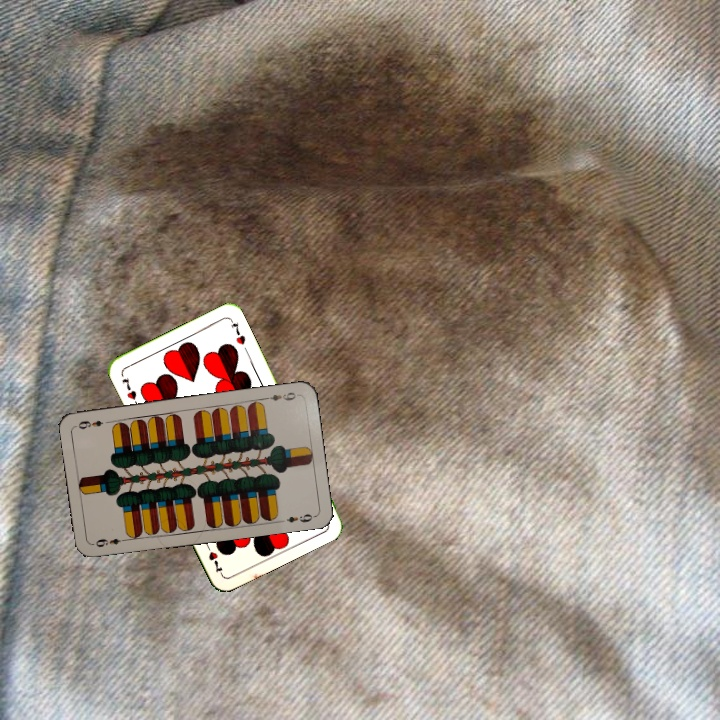E9: (260, 388, 301, 403), (92, 534, 130, 550)
H7: (118, 373, 141, 409)
